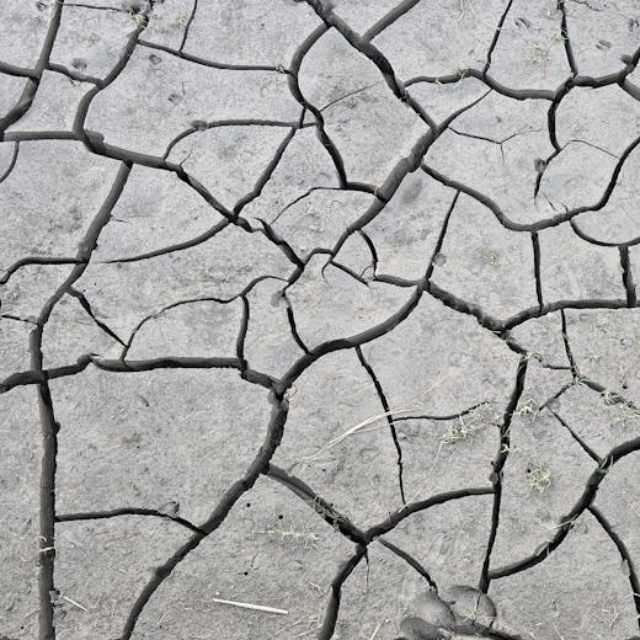深大裂缝: (205, 427, 429, 566)
网状裂隙: (0, 14, 640, 431)
